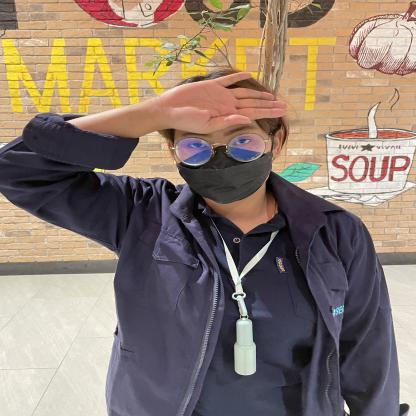Sick: (4, 67, 293, 255)
